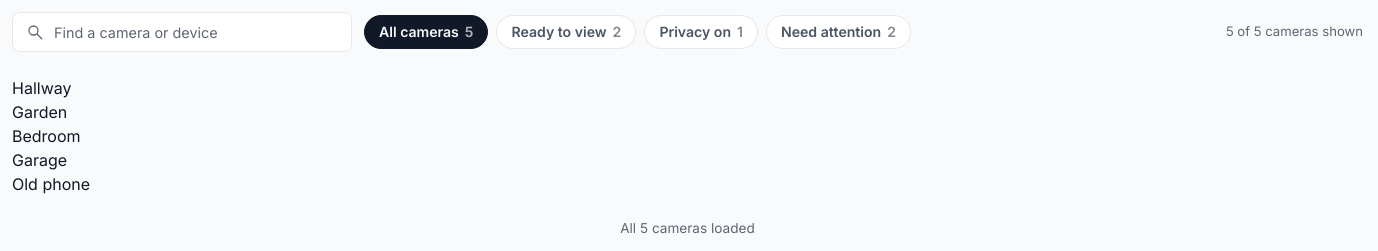
camera browsing › uses revoked access ahead of privacy when filtering attention
Click the radio button labelled "Need attention".
click(838, 32)  # box [766, 15, 911, 49]
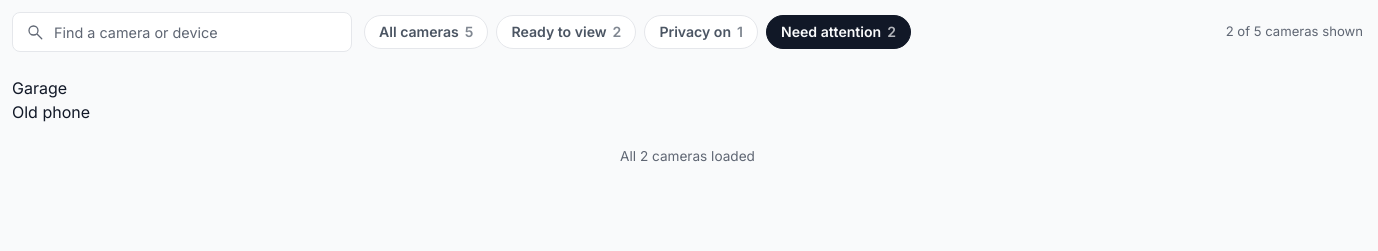
Now the list items read "Garage", "Old phone", in this order, box [12, 78, 67, 98]; [12, 102, 90, 122]
Click the radio button labelled "Privacy on".
click(701, 32)  # box [644, 15, 758, 49]
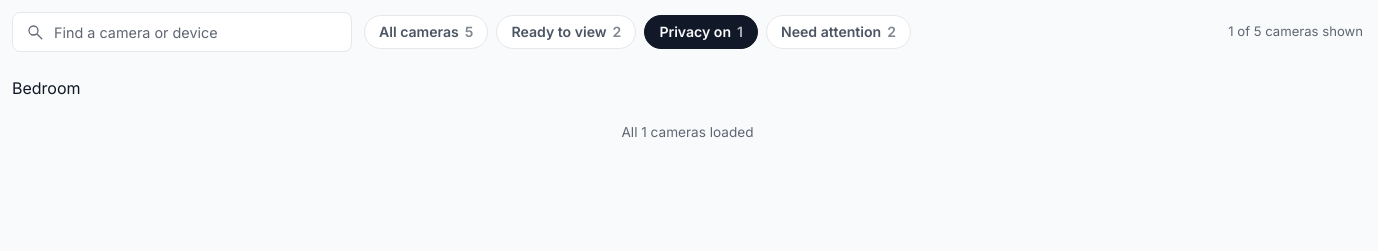
Now the list item reads "Bedroom", box [12, 78, 81, 98]
